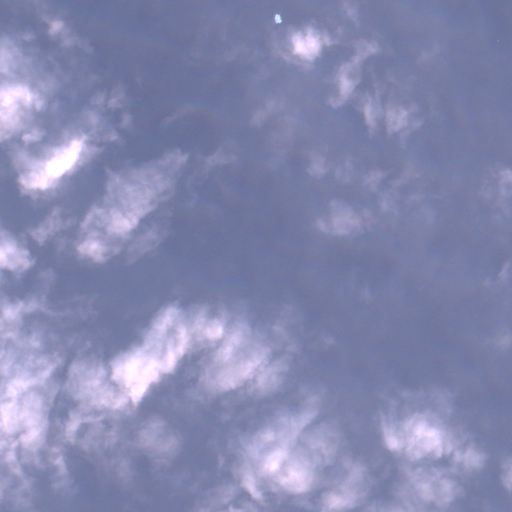Iceberg: (274, 14, 281, 22)
